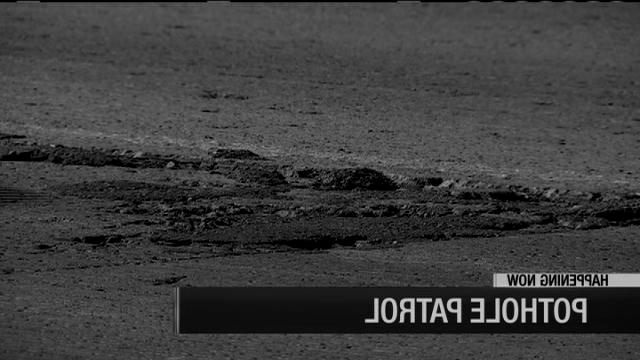Pothole: (4, 127, 640, 256)
